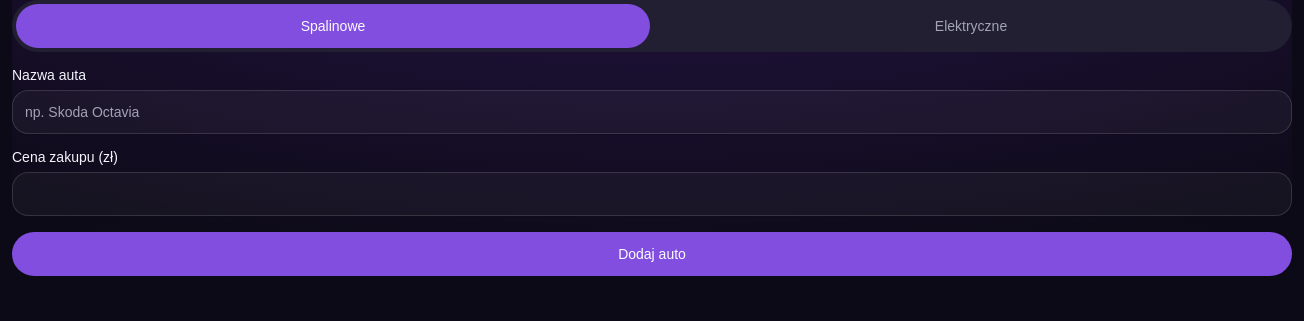
Test case: AddCarForm › shows the server's field error under the right input
Type "Golf" into the field labelled "Nazwa auta".
click(652, 112); type("Golf")  # box [12,90,1292,134]
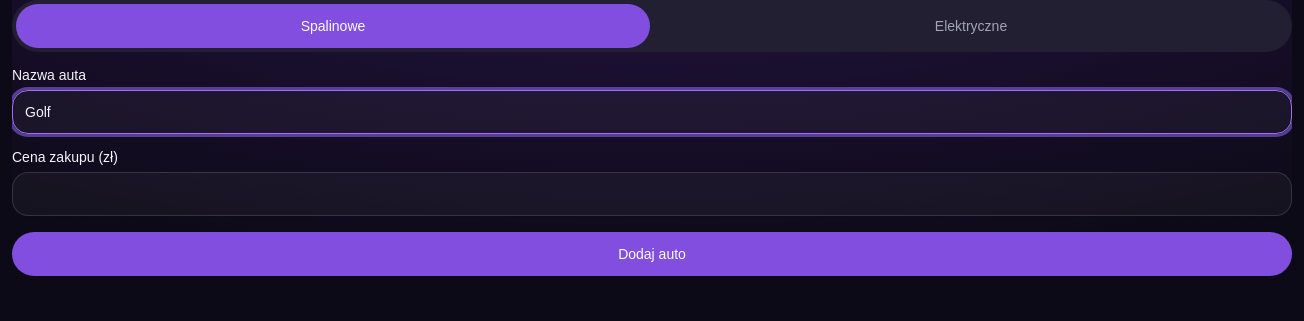
Click the button "Dodaj auto".
click(652, 254)  # box [12,232,1292,276]
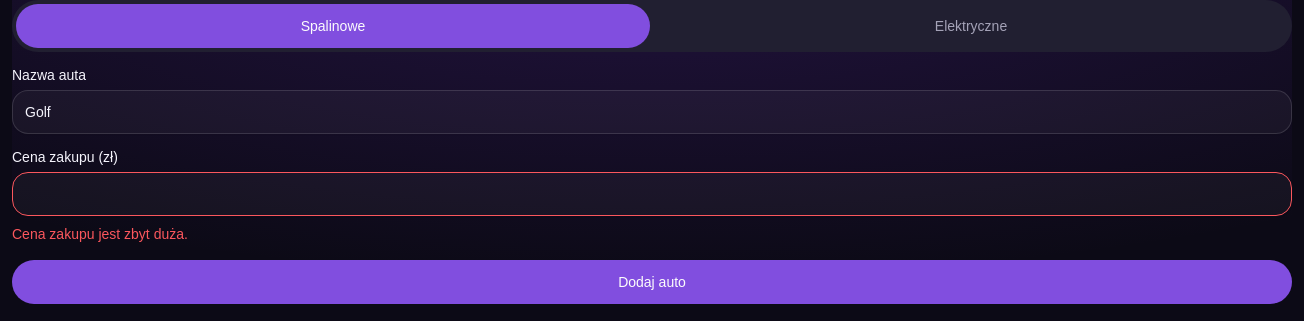
Now the text "Cena zakupu jest zbyt duża." is shown once, box [12,226,188,242]
